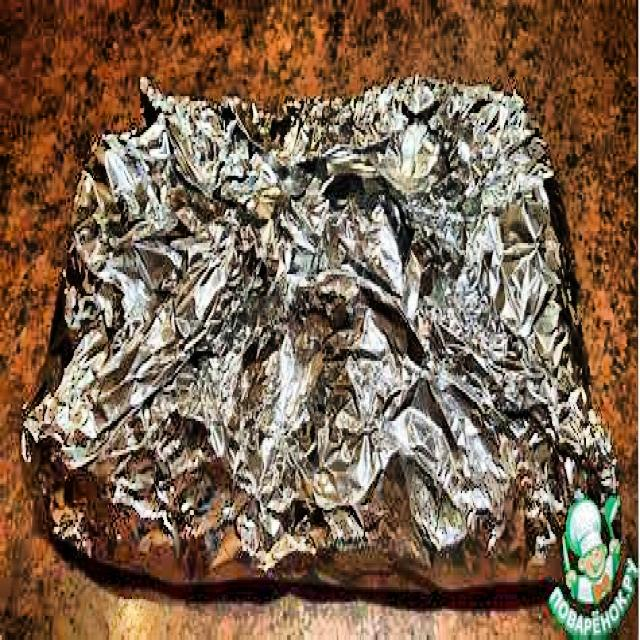Foil: (7, 29, 627, 594)
